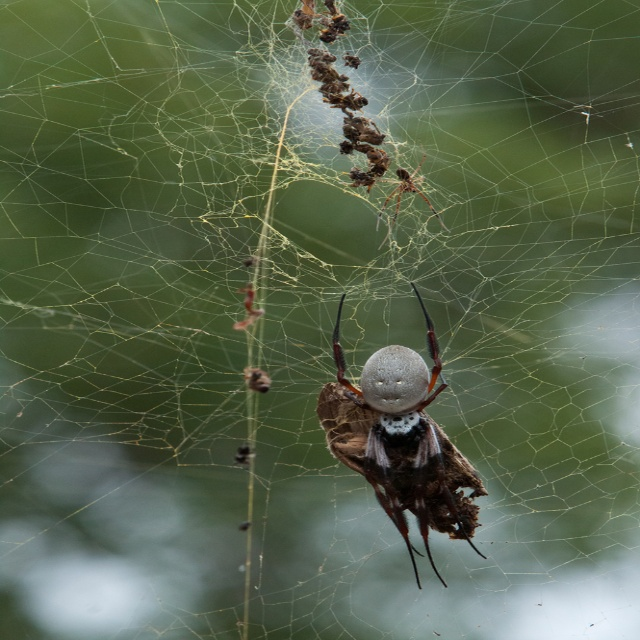Spider: (315, 282, 489, 589)
